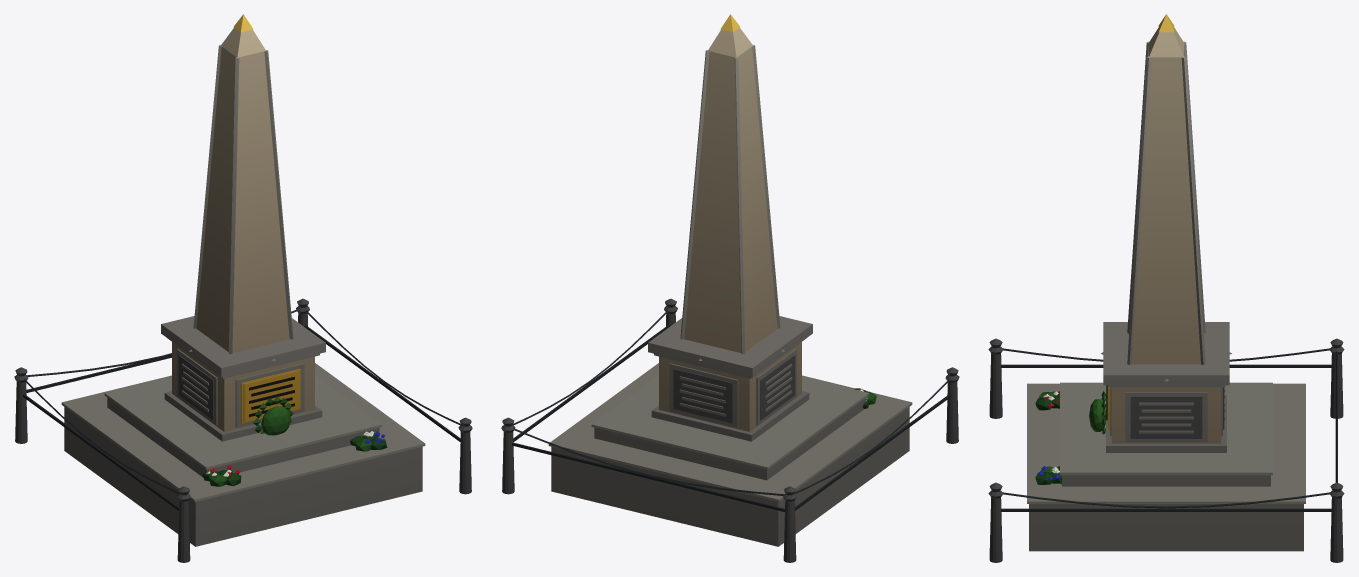
The model's file is Monument.fbx.
The picture shows the model from 3 angles, left to right: view 1: azimuth 30°, elevation 25°; view 2: azimuth 150°, elevation 25°; view 3: azimuth 270°, elevation 25°; orthographic projection. The views are drawn at different scales.
Parts seen in each view (by area): view 1: Monument_LOD0; view 2: Monument_LOD0; view 3: Monument_LOD0.
Boxes of the visible parts, box(x1,y1,x2,y2) form: Monument_LOD0: box(14, 14, 472, 562); Monument_LOD0: box(501, 14, 959, 562); Monument_LOD0: box(988, 14, 1344, 562).
Size of what is drawn, in the model's own units: 6.48 by 9.62 by 6.48.
1 material, 1 textured.
